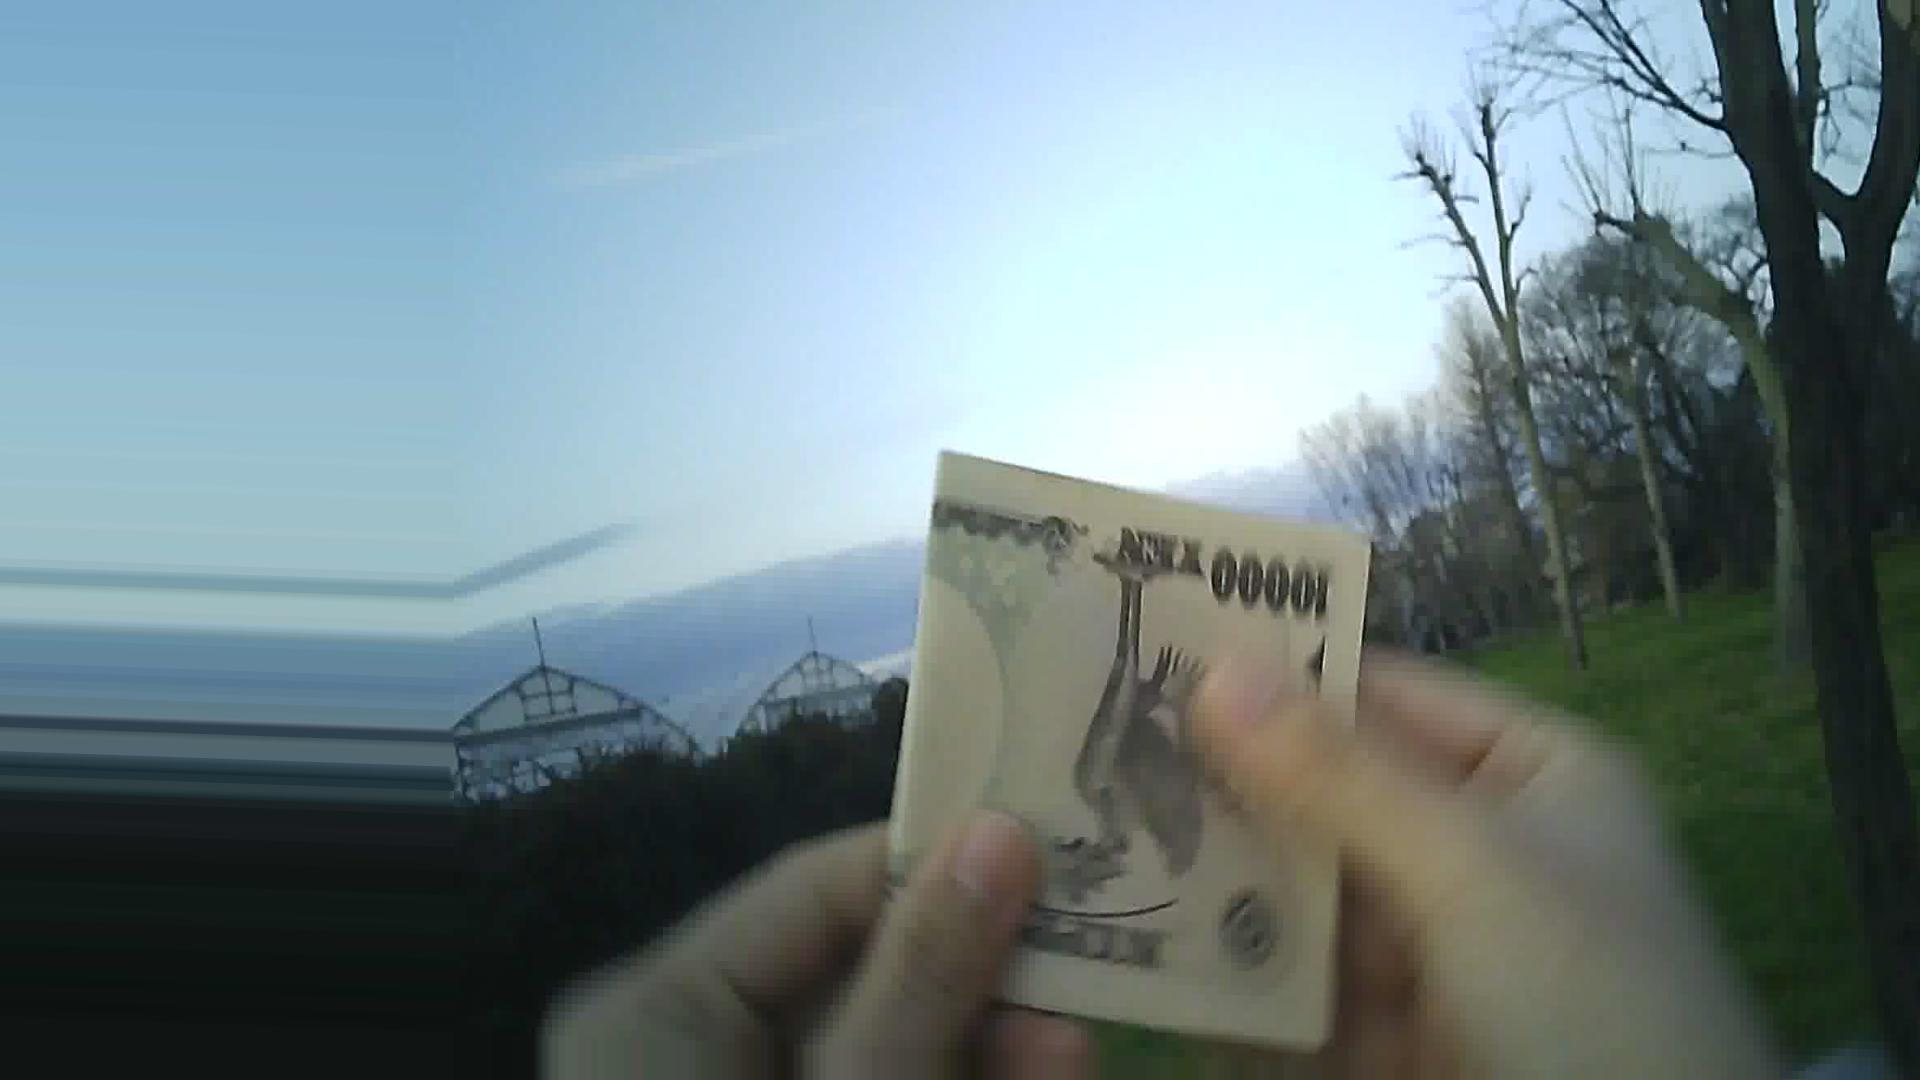10,000 Yen: (843, 427, 1393, 1021)
